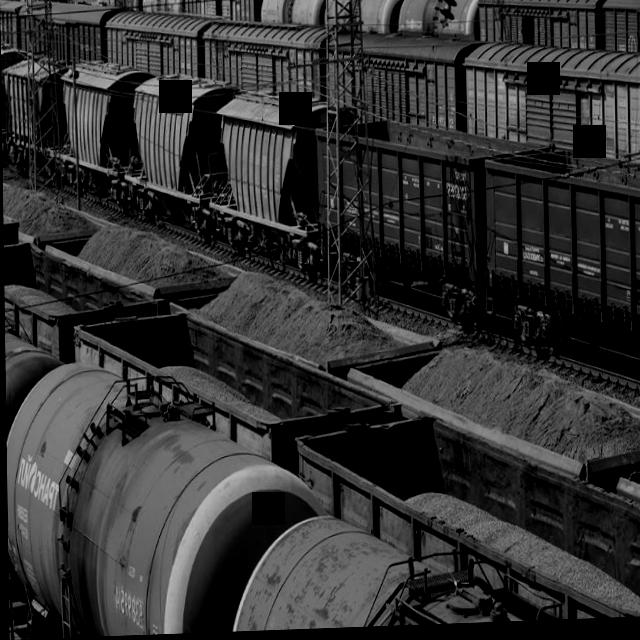boxcar: (461, 33, 640, 173), (325, 26, 470, 142), (204, 15, 332, 106), (103, 6, 212, 85), (475, 0, 615, 53), (20, 0, 115, 67), (600, 0, 640, 64), (185, 0, 266, 26)
gondola: (289, 396, 640, 631), (63, 304, 378, 491), (311, 108, 540, 324), (478, 139, 640, 405), (3, 231, 158, 358)
hopper: (204, 87, 358, 285), (130, 69, 234, 243), (56, 54, 144, 209)
tank: (4, 342, 327, 640), (212, 488, 604, 634), (396, 0, 490, 46), (322, 0, 412, 43), (260, 0, 334, 31), (141, 0, 187, 22)
